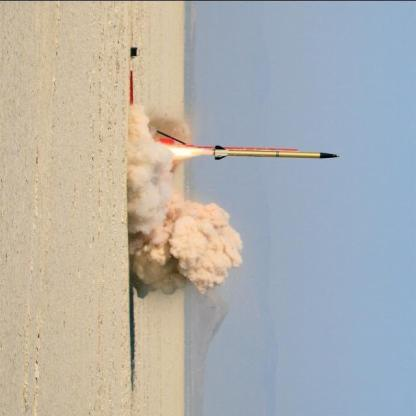MIL_TBM: (212, 143, 340, 161)
